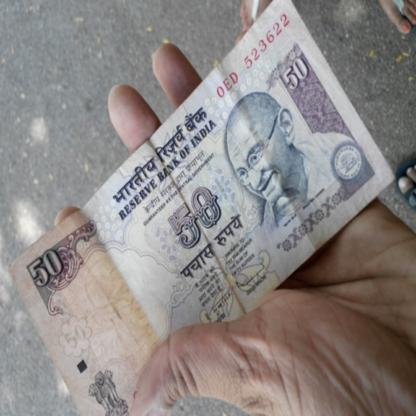Old50Front: (11, 0, 396, 416)
